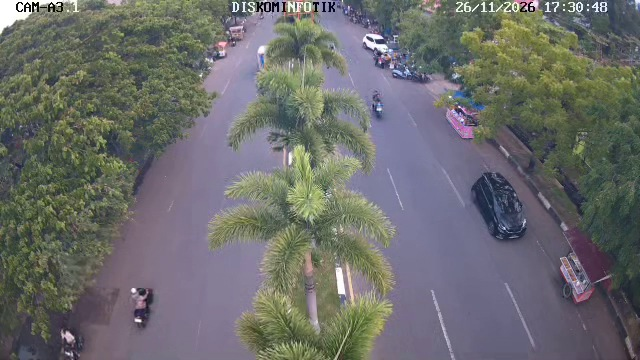Gerobak: (559, 226, 614, 303), (445, 100, 478, 139)
